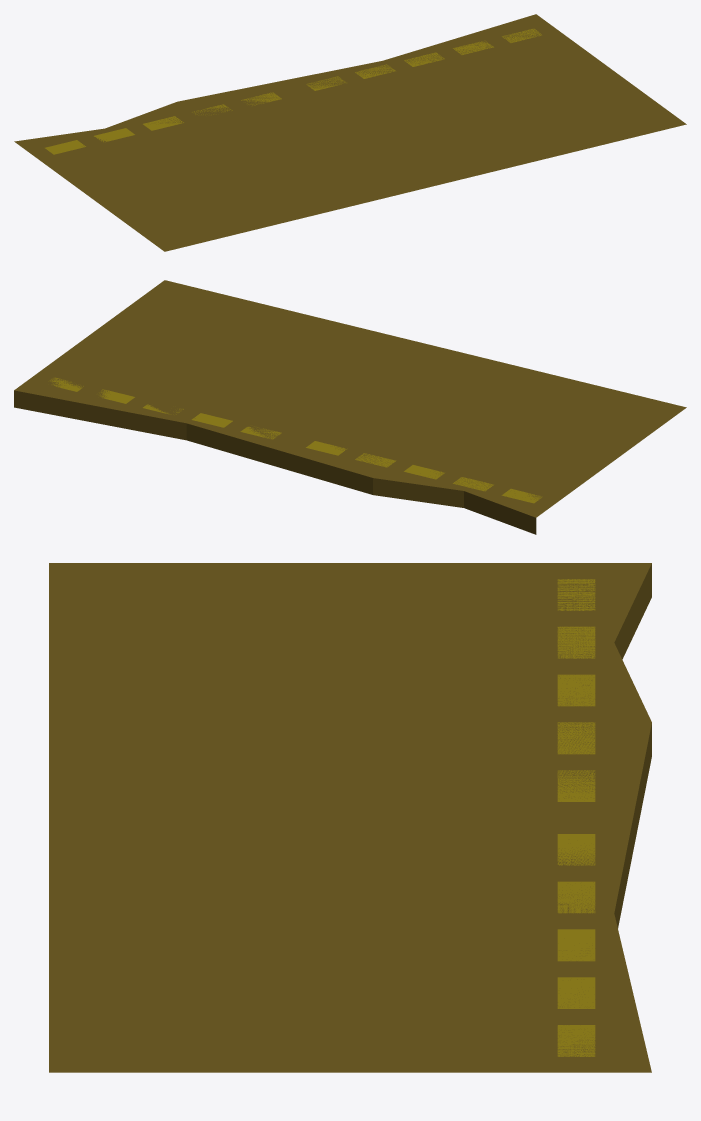
3 views of the same model, one above another, from view 1: azimuth 30°, elevation 25°; view 2: azimuth 150°, elevation 25°; view 3: azimuth 270°, elevation 25° (orthographic). The views are drawn at different scales.
Bounding box in the file's own units: 128 × 4 × 64.
Materials: 1 (1 with a texture image).
